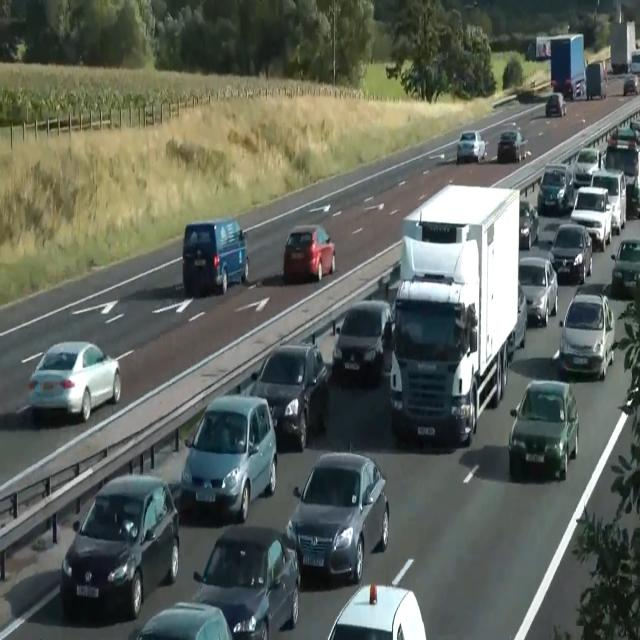bus: (60, 473, 180, 619), (286, 450, 390, 584), (180, 393, 278, 522), (193, 525, 301, 639), (248, 342, 329, 450), (28, 340, 122, 422), (508, 379, 578, 481), (327, 582, 427, 639), (558, 286, 615, 381), (332, 299, 394, 381), (136, 601, 232, 639), (282, 223, 336, 283), (518, 256, 558, 327), (570, 186, 612, 252), (548, 222, 592, 284), (589, 168, 627, 235), (610, 237, 640, 299), (537, 163, 571, 215), (507, 280, 527, 362), (604, 145, 640, 187), (572, 146, 604, 188), (456, 130, 488, 164), (497, 130, 529, 162), (519, 200, 539, 250), (515, 281, 527, 348), (607, 126, 637, 150), (626, 175, 640, 219), (545, 91, 567, 118), (623, 74, 639, 95), (630, 120, 640, 144)
jeep: (181, 217, 249, 296)
minibus: (388, 182, 520, 446), (550, 33, 586, 100), (609, 20, 636, 74), (585, 60, 607, 100), (524, 36, 552, 61)
